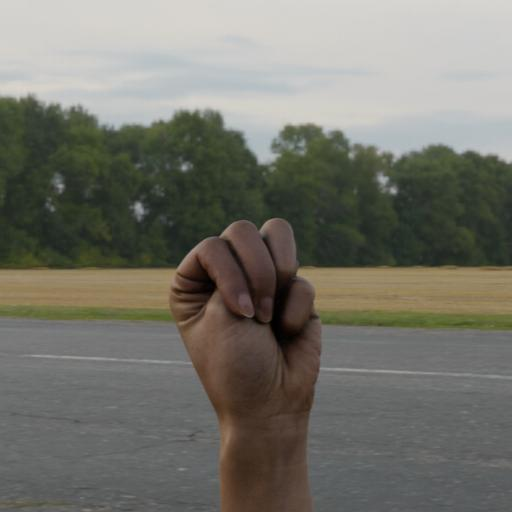M: (152, 210, 340, 504)
